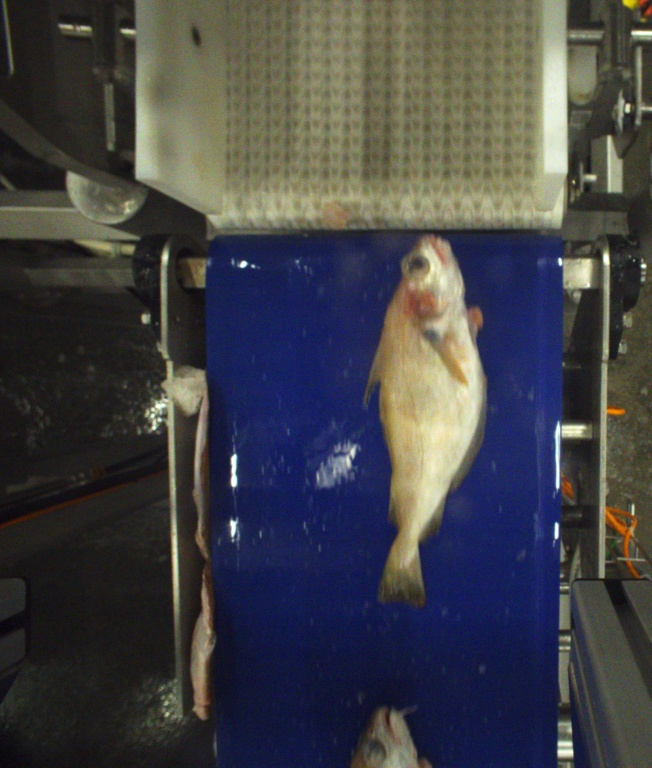BIB: (363, 225, 494, 617)
